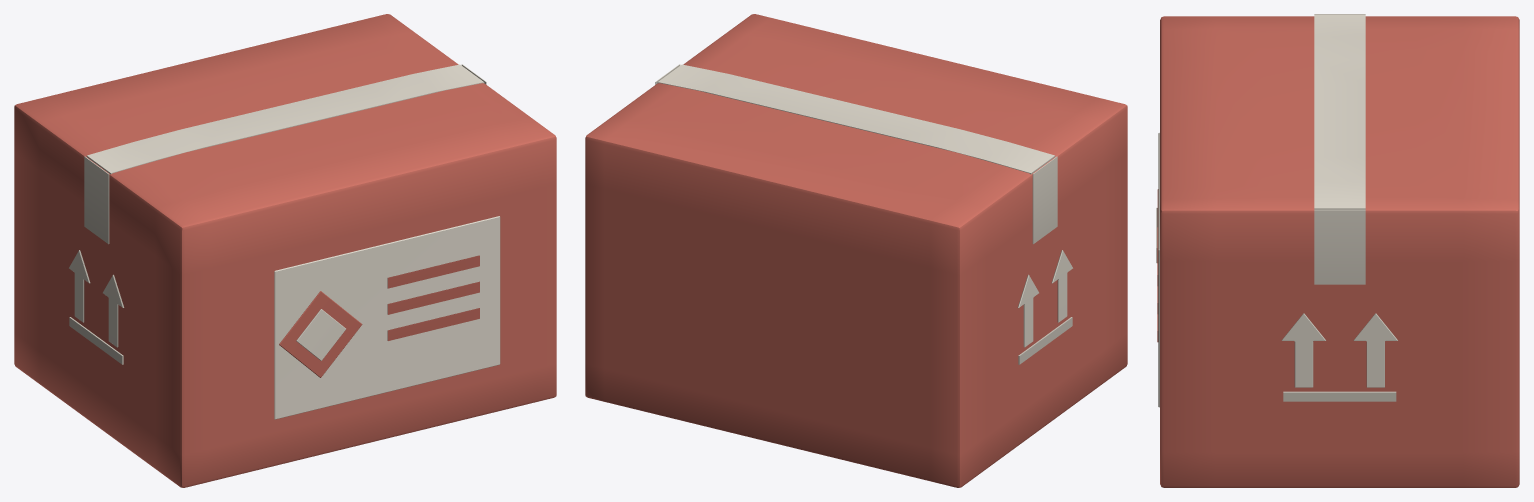
Rendered from crate_lye.glb.
3 renders of one model, left to right at view 1: azimuth 30°, elevation 25°; view 2: azimuth 150°, elevation 25°; view 3: azimuth 270°, elevation 25°, orthographic. The views are drawn at different scales.
Parts seen in each view (by area): view 1: PART; view 2: PART; view 3: PART.
Boxes of the visible parts, left/top/right/bottom form: PART: left=14, top=14, right=556, bottom=487; PART: left=585, top=14, right=1127, bottom=487; PART: left=1156, top=14, right=1519, bottom=487.
Bounding box in the file's own units: 0.4532 × 0.3044 × 0.3537.
